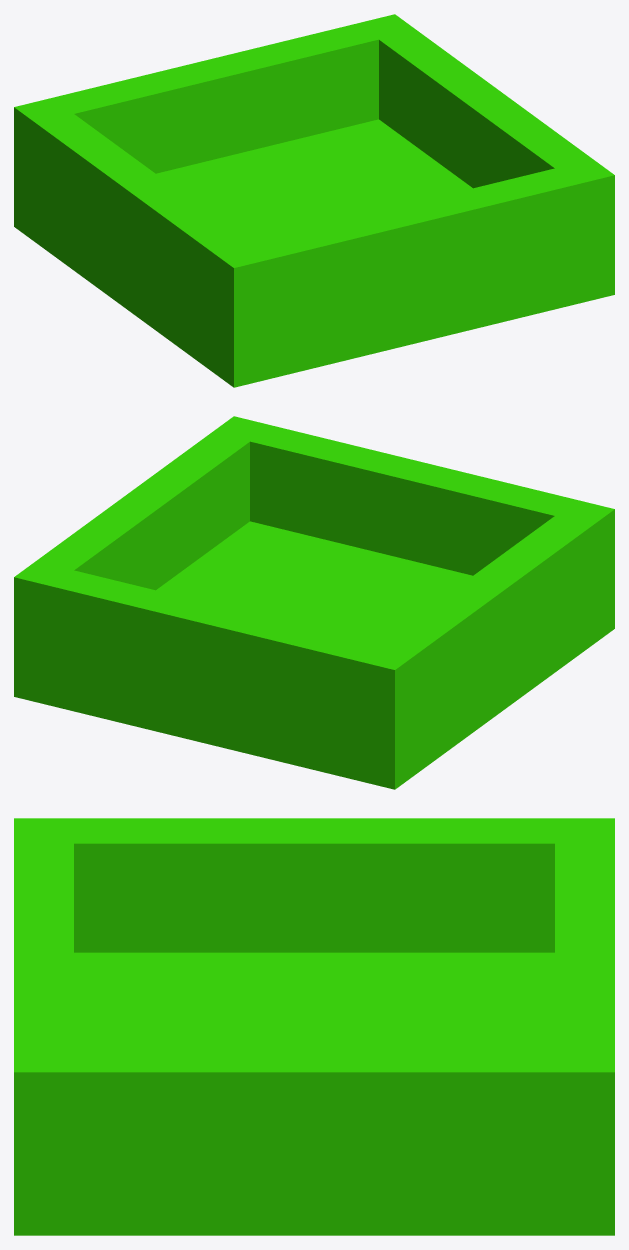
Rendered from fountain02_square.fbx.
3 renders of one model, top to bottom at view 1: azimuth 30°, elevation 25°; view 2: azimuth 150°, elevation 25°; view 3: azimuth 270°, elevation 25°, orthographic. The views are drawn at different scales.
Parts seen in each view (by area): view 1: fountain02_square; view 2: fountain02_square; view 3: fountain02_square.
Boxes of the visible parts, bbox=[...] form: fountain02_square: bbox=[14, 14, 614, 387]; fountain02_square: bbox=[14, 416, 614, 789]; fountain02_square: bbox=[14, 818, 614, 1235].
Bounding box in the file's own units: 200 × 60 × 200.
